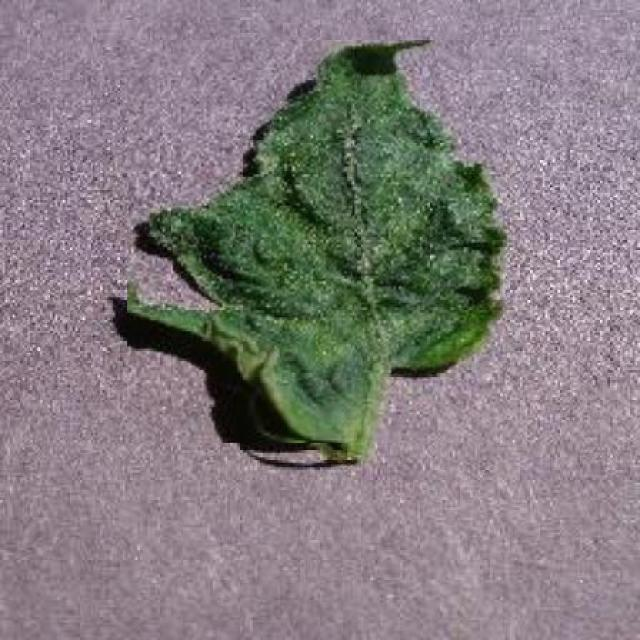Mosaic Virus: (127, 40, 507, 443)
